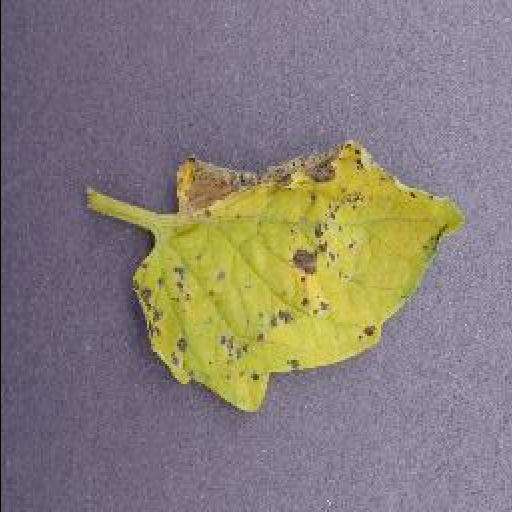disease_tomato: (135, 146, 469, 412)
